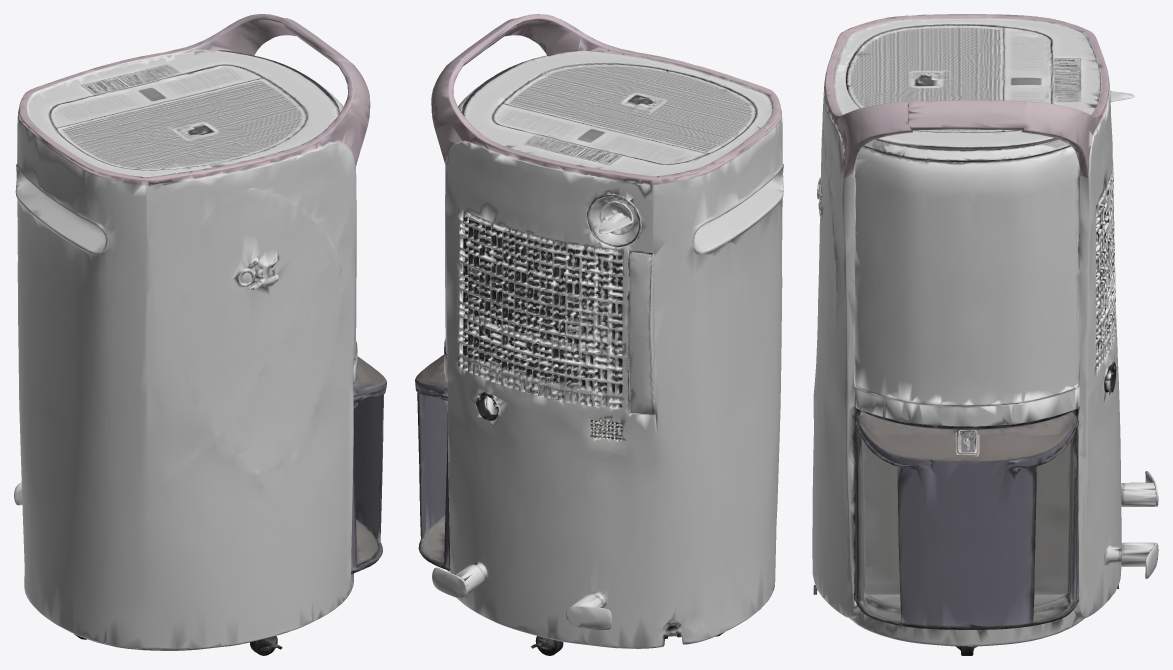
Rendered from MD19GQGE0.glb.
The picture shows the model from 3 angles, left to right: view 1: azimuth 30°, elevation 25°; view 2: azimuth 150°, elevation 25°; view 3: azimuth 270°, elevation 25°; orthographic projection. The views are drawn at different scales.
Visible parts, largest first — view 1: tripo_node_c8e5b188-011e-4b6c-bfab-d9d30dceff5c; view 2: tripo_node_c8e5b188-011e-4b6c-bfab-d9d30dceff5c; view 3: tripo_node_c8e5b188-011e-4b6c-bfab-d9d30dceff5c.
Boxes of the visible parts, bbox=[...] form: tripo_node_c8e5b188-011e-4b6c-bfab-d9d30dceff5c: bbox=[14, 14, 386, 655]; tripo_node_c8e5b188-011e-4b6c-bfab-d9d30dceff5c: bbox=[415, 14, 783, 655]; tripo_node_c8e5b188-011e-4b6c-bfab-d9d30dceff5c: bbox=[812, 14, 1158, 655].
Bounding box in the file's own units: 0.5844 × 0.9794 × 0.5477.
Materials: 1 (1 with a texture image).
